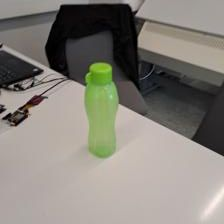bottle: (83, 61, 120, 160)
